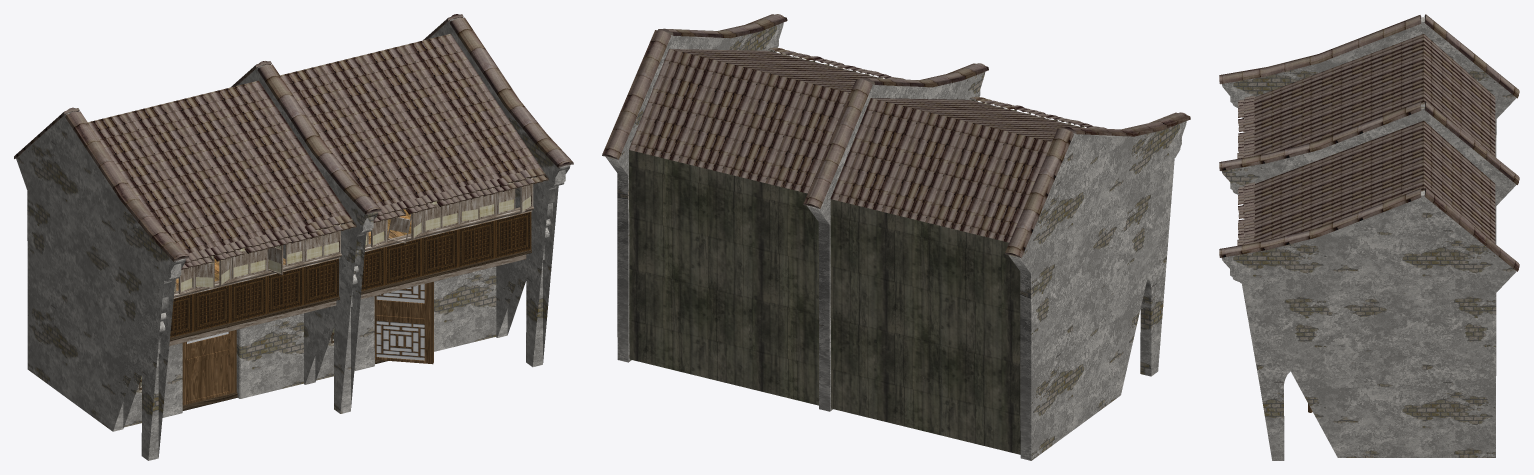
File: house4_LOD0.FBX
The picture shows the model from 3 angles, left to right: view 1: azimuth 30°, elevation 25°; view 2: azimuth 150°, elevation 25°; view 3: azimuth 270°, elevation 25°; orthographic projection. The views are drawn at different scales.
Parts seen in each view (by area): view 1: walls_LOD0, roof_LOD0, rooftiles_LOD0, frontpanels_LOD0, windowframes_LOD0, door2_LOD0, door_LOD0, paperwindows_LOD0, window_LOD0, beam1_LOD0; view 2: backwall_LOD0, walls_LOD0, roof_LOD0, rooftiles_LOD0; view 3: walls_LOD0, roof_LOD0, rooftiles_LOD0.
Boxes of the visible parts, box(x1,y1,x2,y2) form: walls_LOD0: box(16, 18, 570, 460); roof_LOD0: box(88, 33, 543, 253); rooftiles_LOD0: box(14, 14, 573, 270); frontpanels_LOD0: box(170, 212, 531, 337); windowframes_LOD0: box(173, 182, 533, 298); door2_LOD0: box(374, 281, 433, 364); door_LOD0: box(182, 330, 236, 405); paperwindows_LOD0: box(174, 178, 530, 291); window_LOD0: box(139, 249, 531, 410); beam1_LOD0: box(169, 254, 526, 345); backwall_LOD0: box(629, 50, 1084, 454); walls_LOD0: box(605, 22, 1186, 460); roof_LOD0: box(629, 49, 1081, 242); rooftiles_LOD0: box(602, 14, 1190, 258); walls_LOD0: box(1221, 17, 1516, 460); roof_LOD0: box(1253, 34, 1495, 243); rooftiles_LOD0: box(1219, 14, 1519, 271).
Size of the model in its own units: 1097 by 762 by 770.
